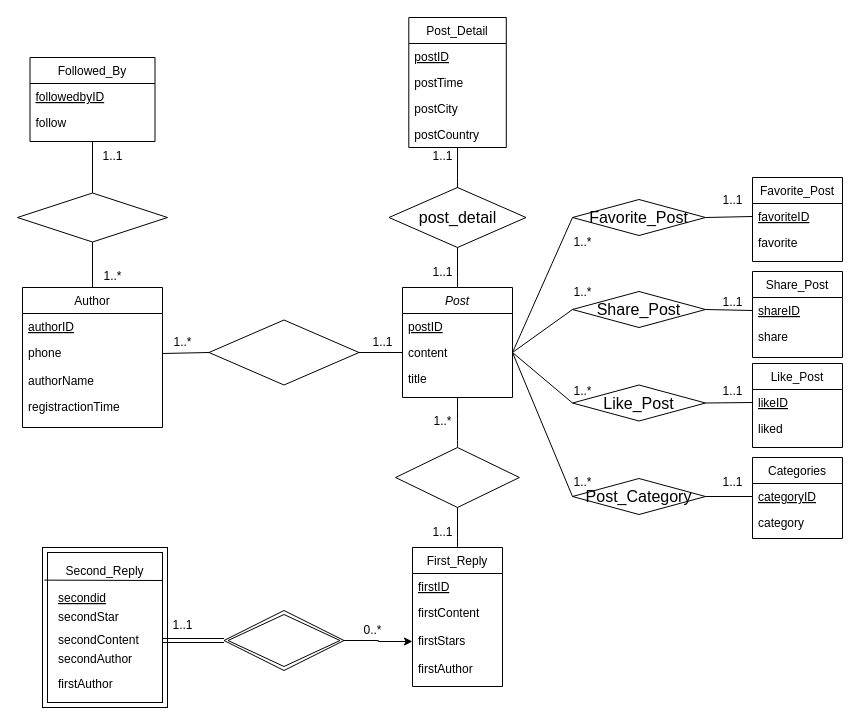
Image size: 860x725. Some labels were removed from this diagram. The centre of each missing label's shape, as x and y in pixels:
"After_First_Reply" belongs at [283,640].
"Author_Follow_poster" belongs at [92,217].
"author_info" belongs at [283,352].
"post_reply" belongs at [457,477].
